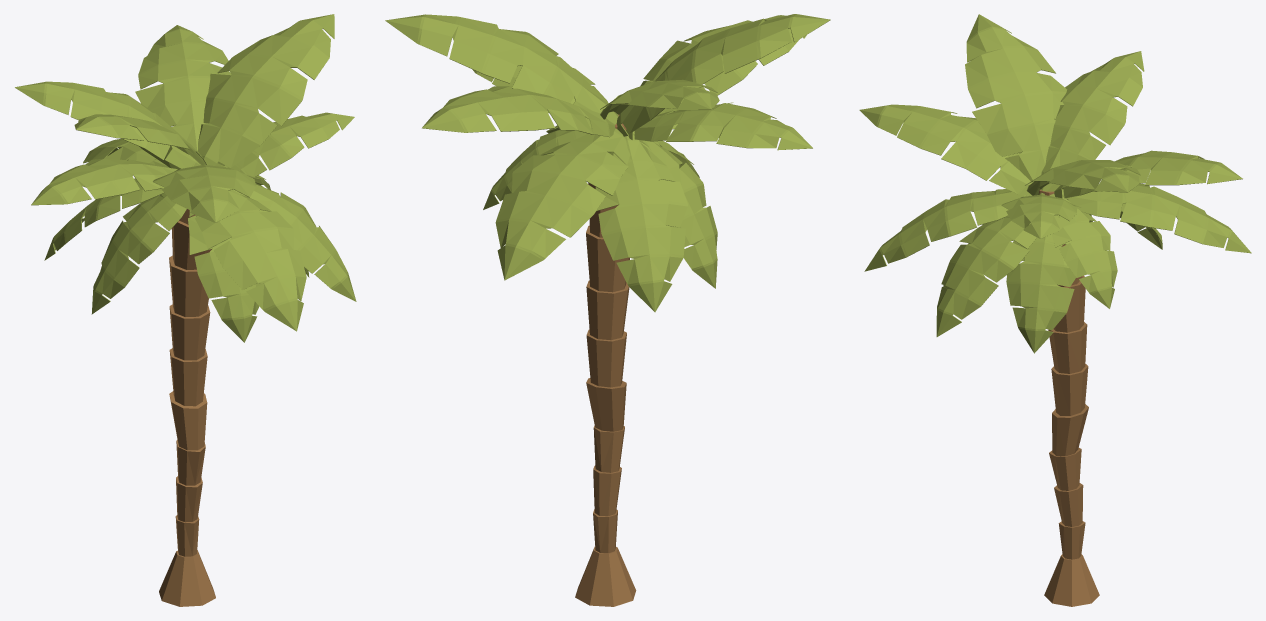
Rendered from SL_PalmTree.fbx.
The picture shows the model from 3 angles, left to right: view 1: azimuth 30°, elevation 25°; view 2: azimuth 150°, elevation 25°; view 3: azimuth 270°, elevation 25°; orthographic projection. The views are drawn at different scales.
Parts seen in each view (by area): view 1: SL_PalmTree; view 2: SL_PalmTree; view 3: SL_PalmTree.
Boxes of the visible parts, x1,y1,x2,y2 form: SL_PalmTree: (15,14,356,606); SL_PalmTree: (385,14,830,606); SL_PalmTree: (859,14,1251,606).
Bounding box in the file's own units: 662 × 972 × 682.
